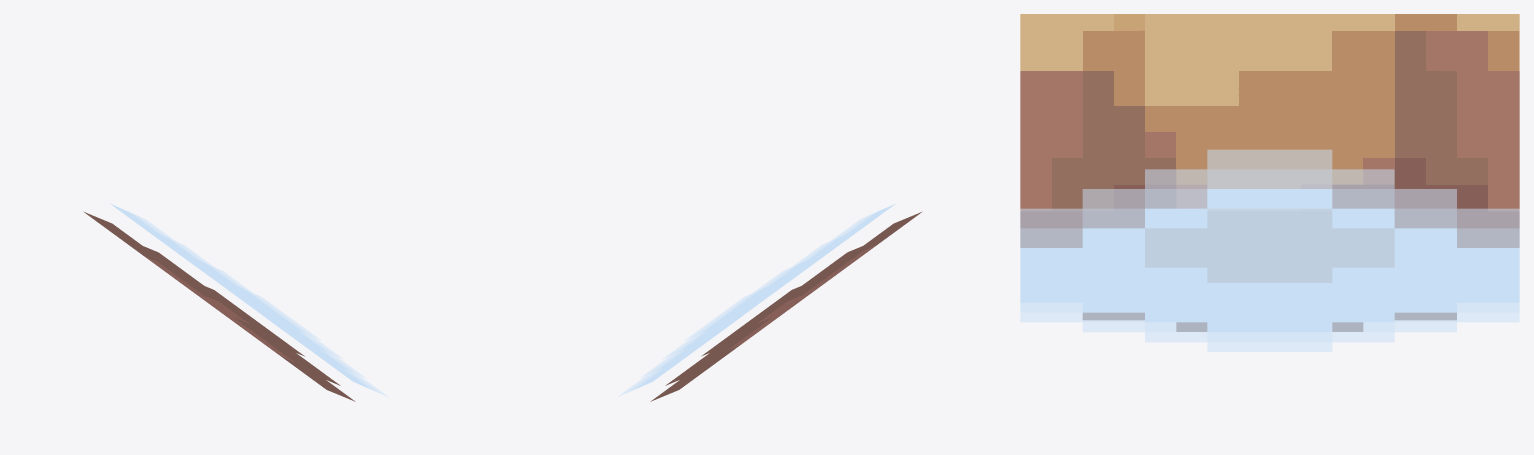
3 views of the same model, side by side, from view 1: azimuth 30°, elevation 25°; view 2: azimuth 150°, elevation 25°; view 3: azimuth 270°, elevation 25° (orthographic). The views are drawn at different scales.
Size of the model in its own units: 0.5459 by 0.6892 by 1.
Materials: 2 (2 with a texture image).
